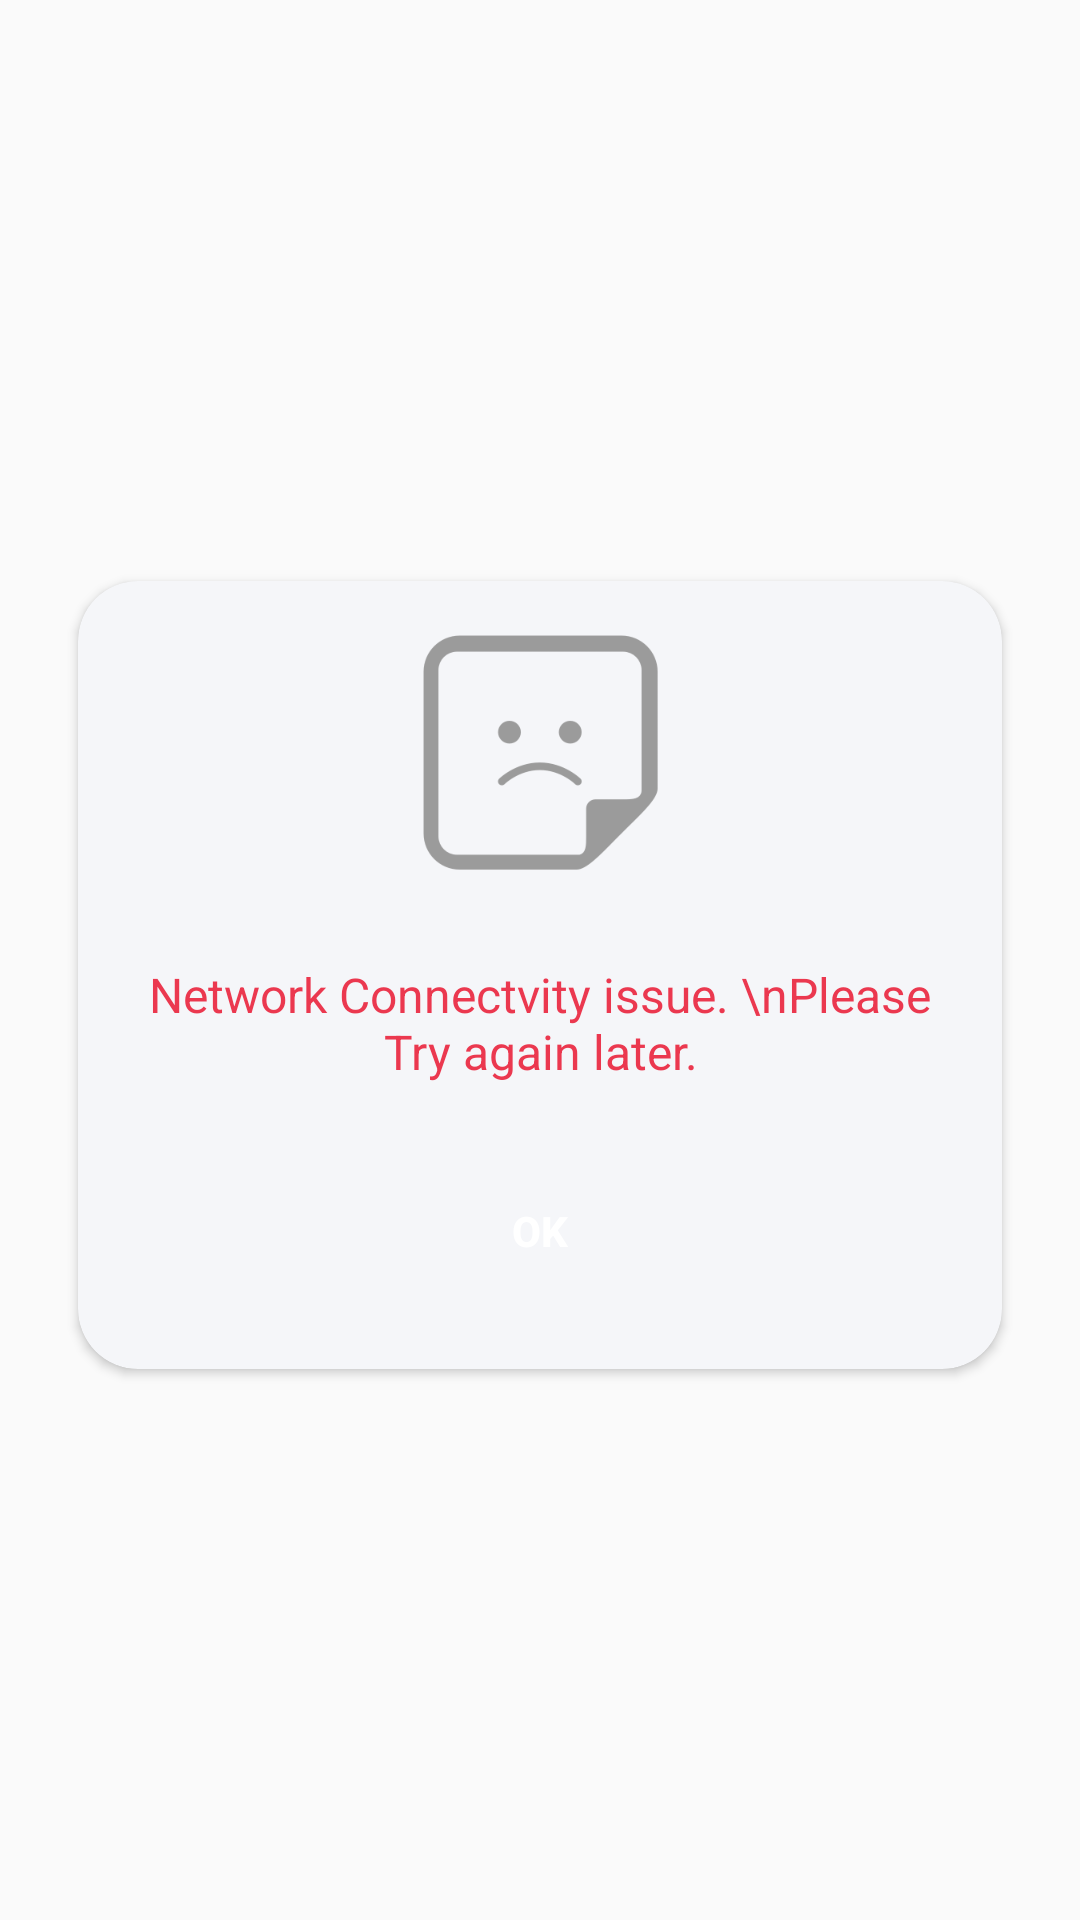

Icon bounding boxes for this 1080x1920 phone screenshot, format (x1, y1, x2, y2):
note graphic: (423, 635, 658, 870)
